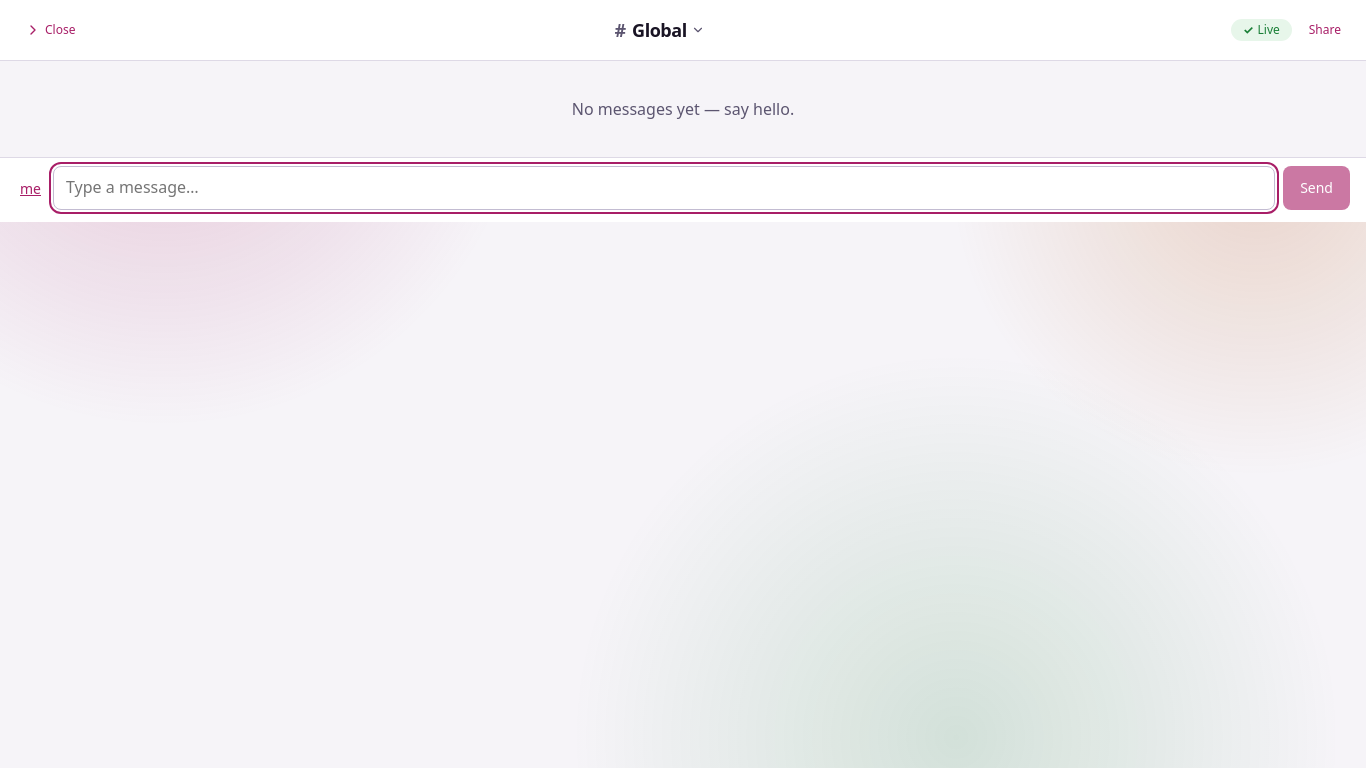
Scenario: ChatScreen › CHAT-022: the room rail › starts with the room list collapsed, and the room selector opens it
Click the button "# Global" at (660, 30), box [607,8,713,52]
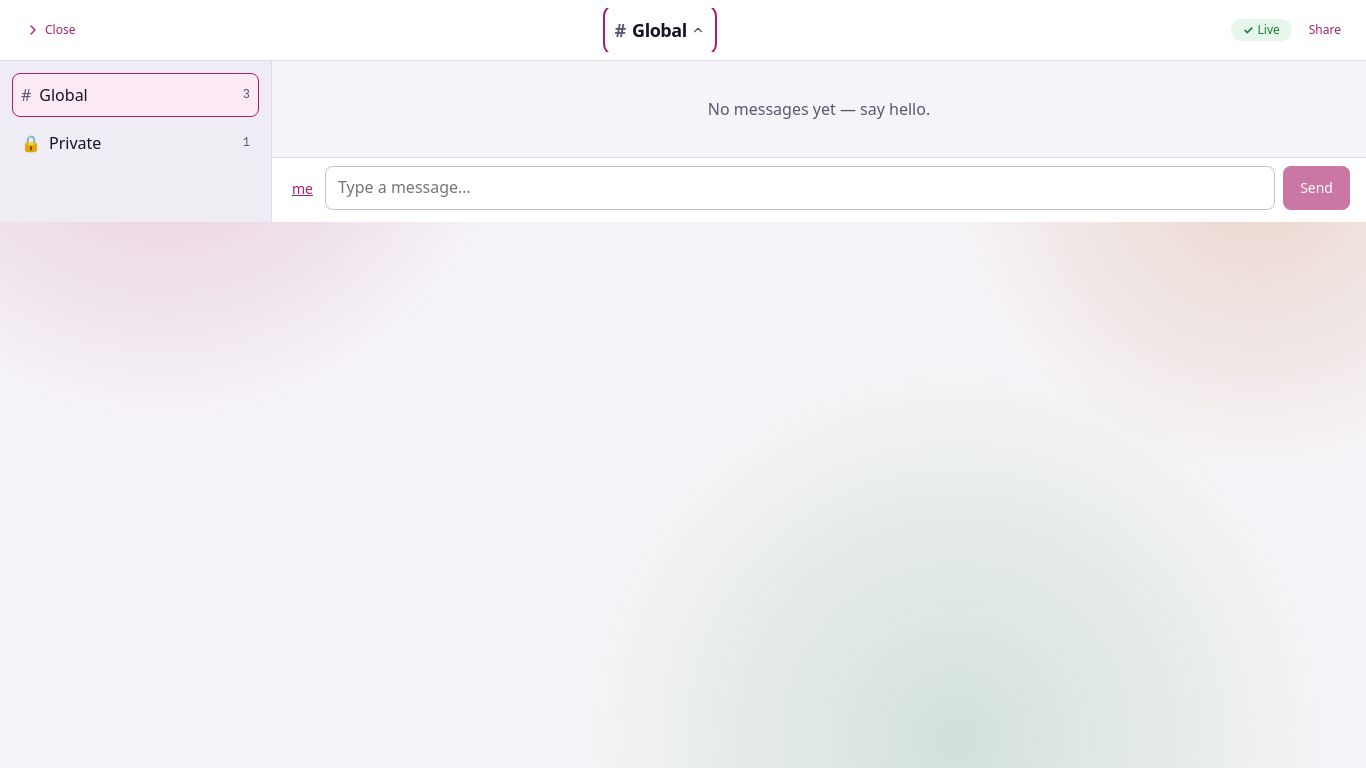
Expected: the button "# Global" is expanded, [607,8,713,52]
# Escape closes it — on a narrow screen it covers the conversation.
Press Escape
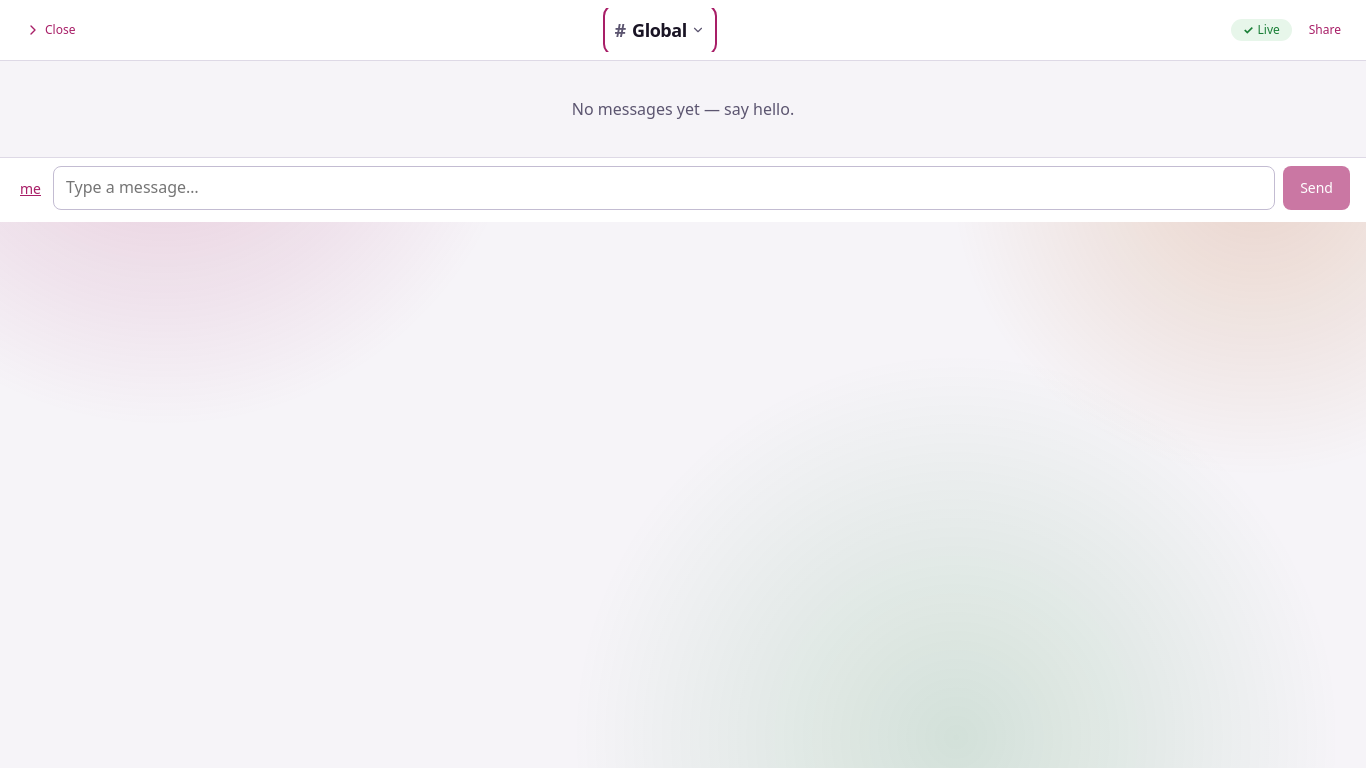
Expected: the button "# Global" is collapsed, [607,8,713,52]
